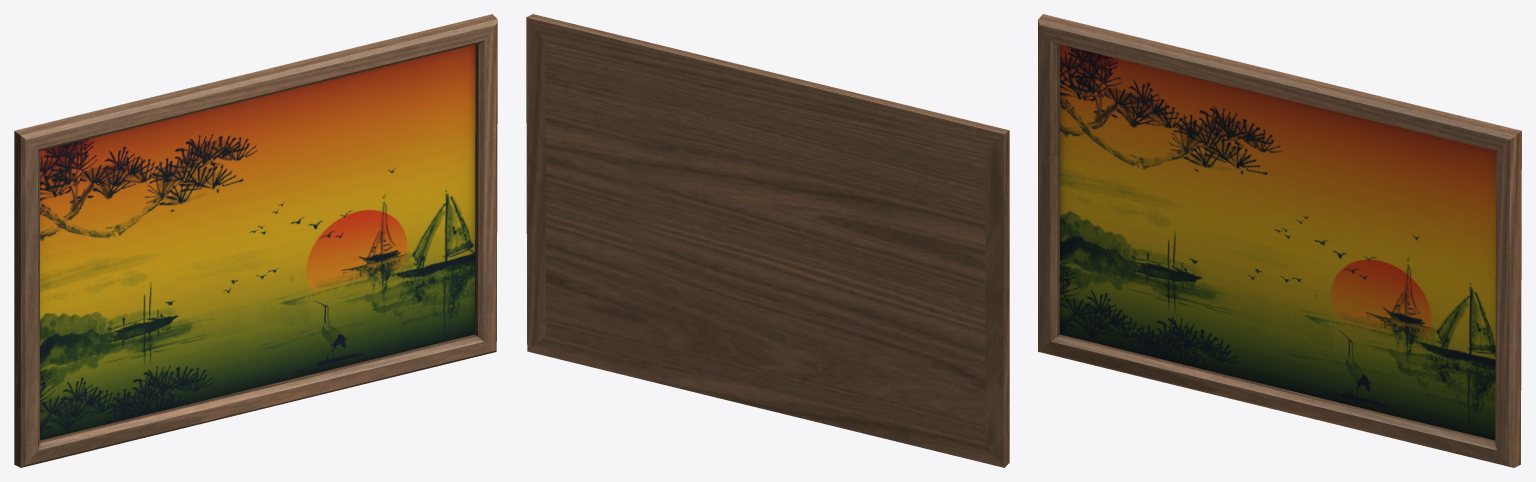
Rendered from Painting1.a.fbx.
3 renders of one model, left to right at view 1: azimuth 30°, elevation 25°; view 2: azimuth 150°, elevation 25°; view 3: azimuth 330°, elevation 25°, orthographic.
Visible parts, largest first — view 1: Group 0; view 2: Group 0; view 3: Group 0.
Boxes of the visible parts, left/top/right/bottom form: Group 0: left=14, top=14, right=497, bottom=467; Group 0: left=526, top=14, right=1009, bottom=467; Group 0: left=1038, top=14, right=1521, bottom=467.
Bounding box in the file's own units: 312 × 208 × 9.24.
Materials: 1 (1 with a texture image).
